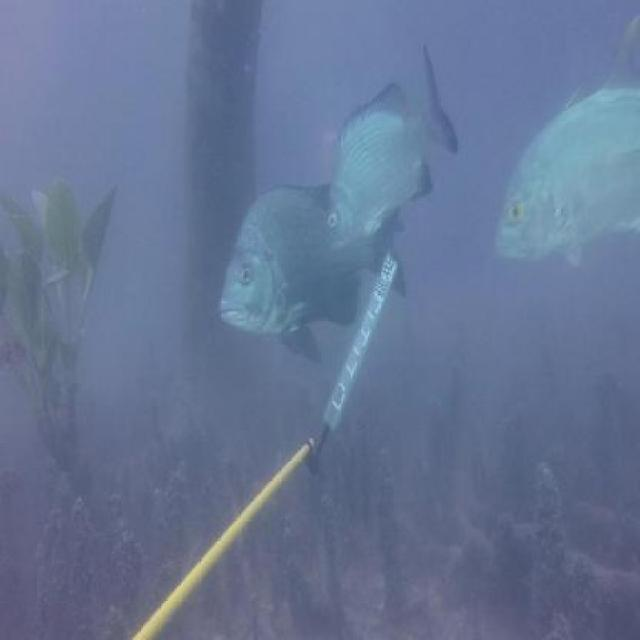Caranx: (491, 14, 640, 274)
acanthopagrus_palmaris: (218, 177, 407, 365), (320, 37, 466, 261)
